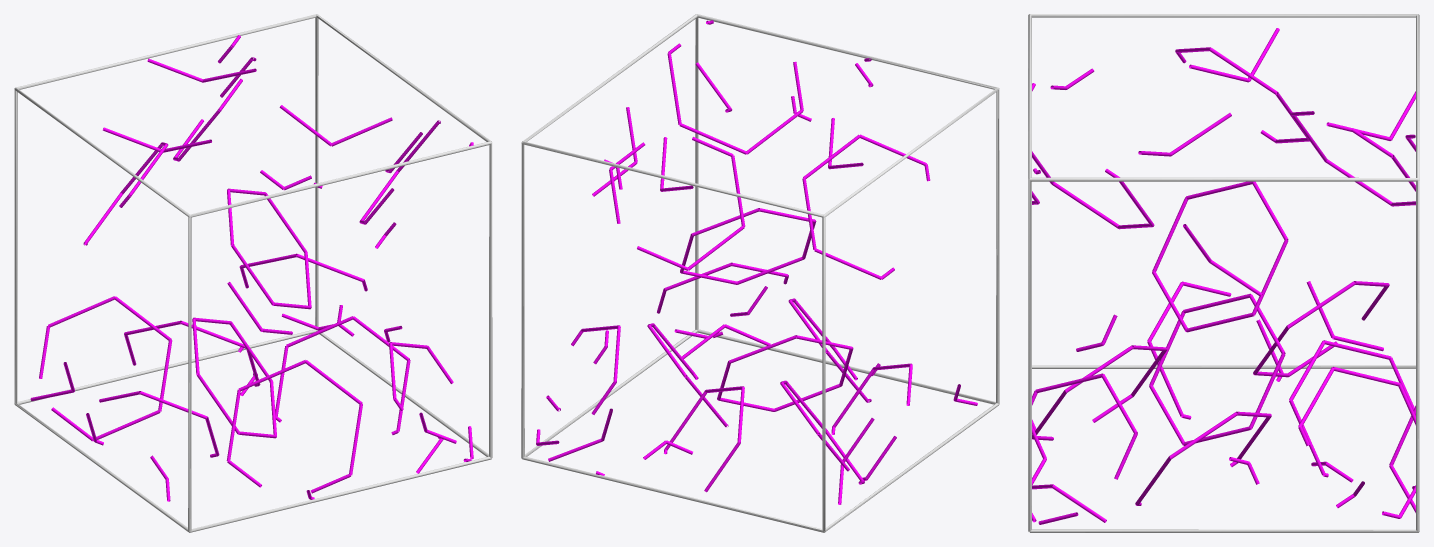
The model's file is config.0.glb.
3 views of the same model, side by side, from view 1: azimuth 30°, elevation 25°; view 2: azimuth 150°, elevation 25°; view 3: azimuth 270°, elevation 25° (orthographic). The views are drawn at different scales.
Parts seen in each view (by area): view 1: Dislocations, Simulation cell; view 2: Dislocations, Simulation cell; view 3: Dislocations, Simulation cell.
Boxes of the visible parts, left/top/right/bottom form: Dislocations: left=30, top=35, right=473, bottom=501; Simulation cell: left=14, top=14, right=492, bottom=532; Dislocations: left=536, top=20, right=977, bottom=504; Simulation cell: left=521, top=14, right=999, bottom=532; Dislocations: left=1032, top=28, right=1415, bottom=524; Simulation cell: left=1028, top=14, right=1419, bottom=532.
Size of the model in its own units: 10.1 by 10.1 by 10.1.
